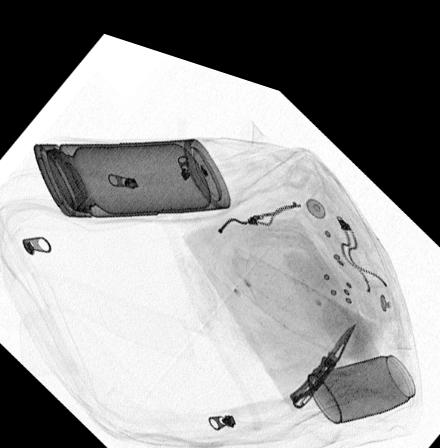Knife: (287, 299, 354, 389)
